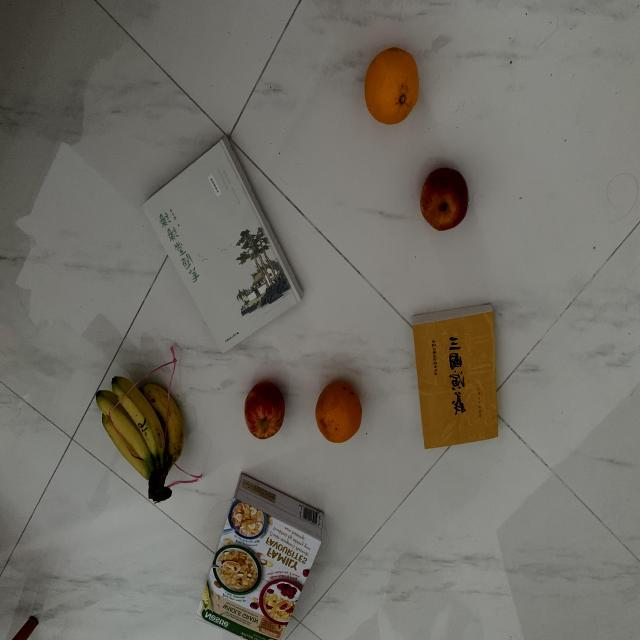apple: (410, 158, 477, 239), (237, 374, 290, 444)
banana: (92, 368, 192, 509)
orange: (363, 39, 424, 129), (312, 376, 367, 450)
